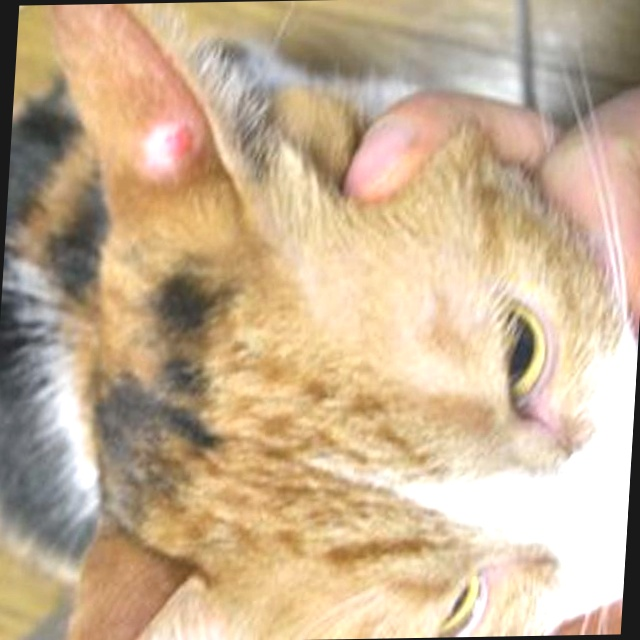lump_and_bump: (138, 120, 201, 174)
